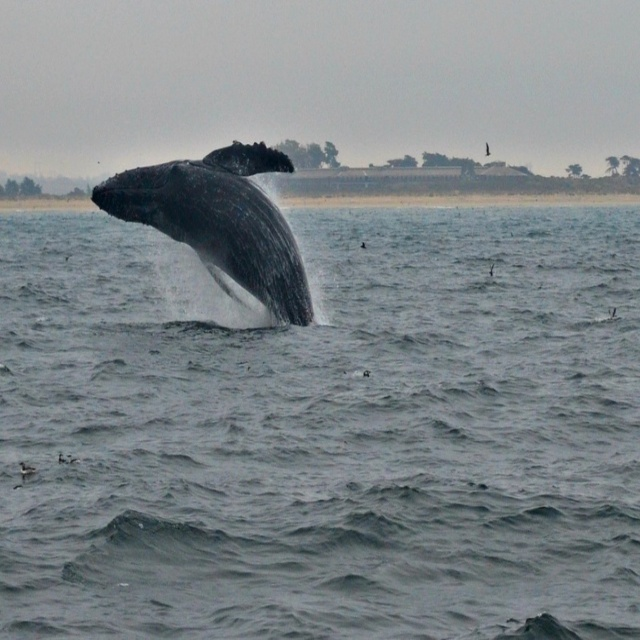Whale: (91, 140, 314, 328)
